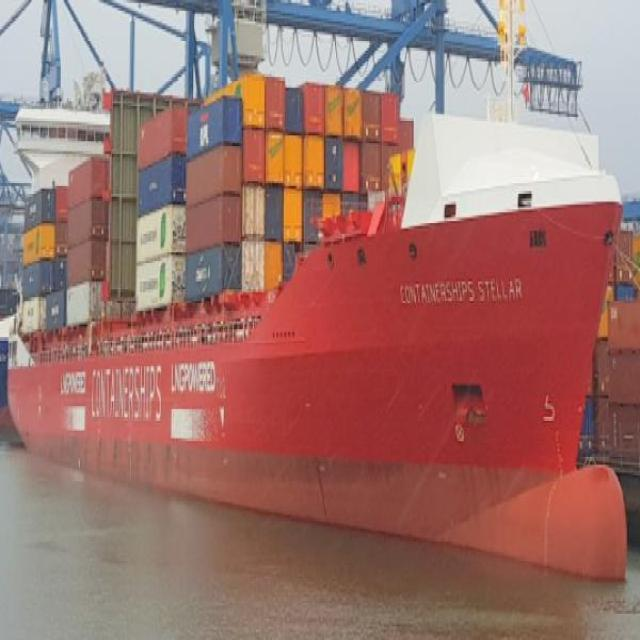Container Ship: (7, 12, 631, 586)
